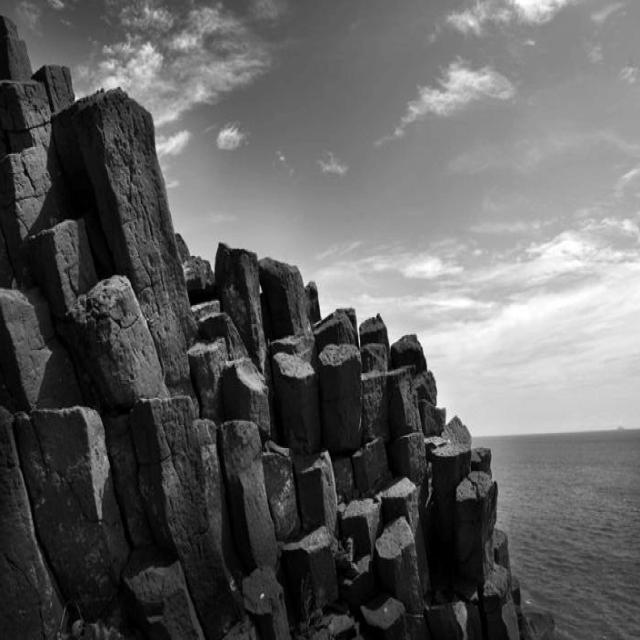reef: (309, 290, 572, 639)
